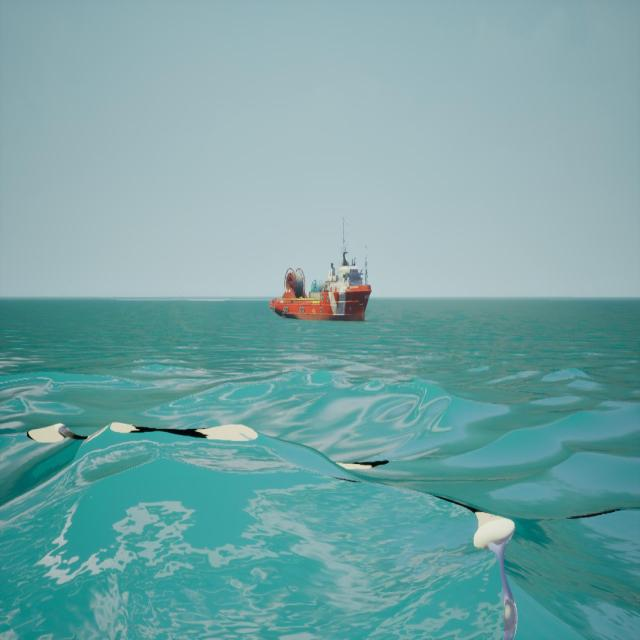tug boat: (274, 218, 373, 324)
